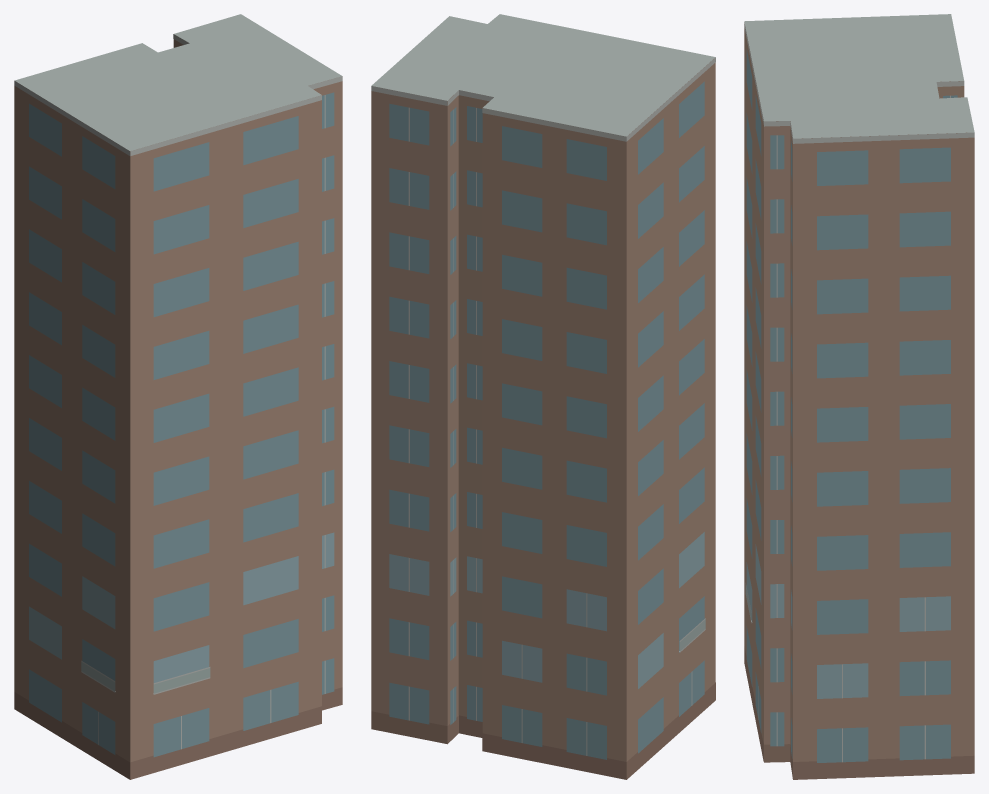
File: survey-upis-32633808.glb
3 views of the same model, side by side, from view 1: azimuth 30°, elevation 25°; view 2: azimuth 150°, elevation 25°; view 3: azimuth 270°, elevation 25° (orthographic). The views are drawn at different scales.
Parts seen in each view (by area): view 1: survey-upis-32633808.tmp; view 2: survey-upis-32633808.tmp; view 3: survey-upis-32633808.tmp.
Boxes of the visible parts, box(x1,y1,x2,y2) form: survey-upis-32633808.tmp: box(14, 14, 342, 779); survey-upis-32633808.tmp: box(371, 14, 715, 779); survey-upis-32633808.tmp: box(744, 14, 974, 779).
Size of the model in its own units: 12.77 by 30.57 by 9.97.
